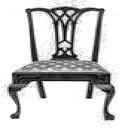chair_success: (4, 3, 125, 124)
